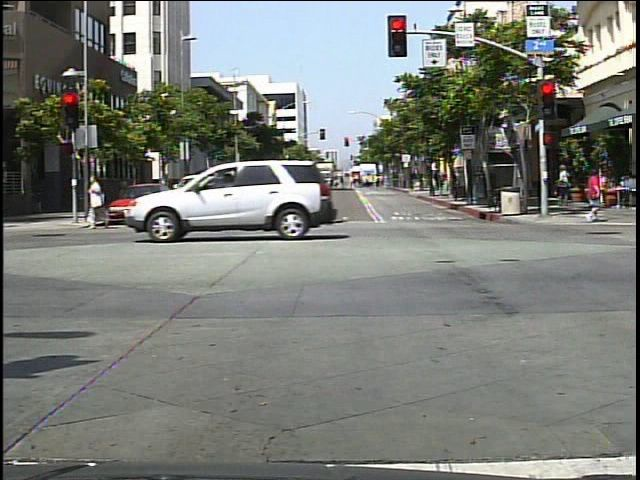person: (84, 172, 116, 236), (580, 169, 609, 229), (554, 161, 574, 211)
